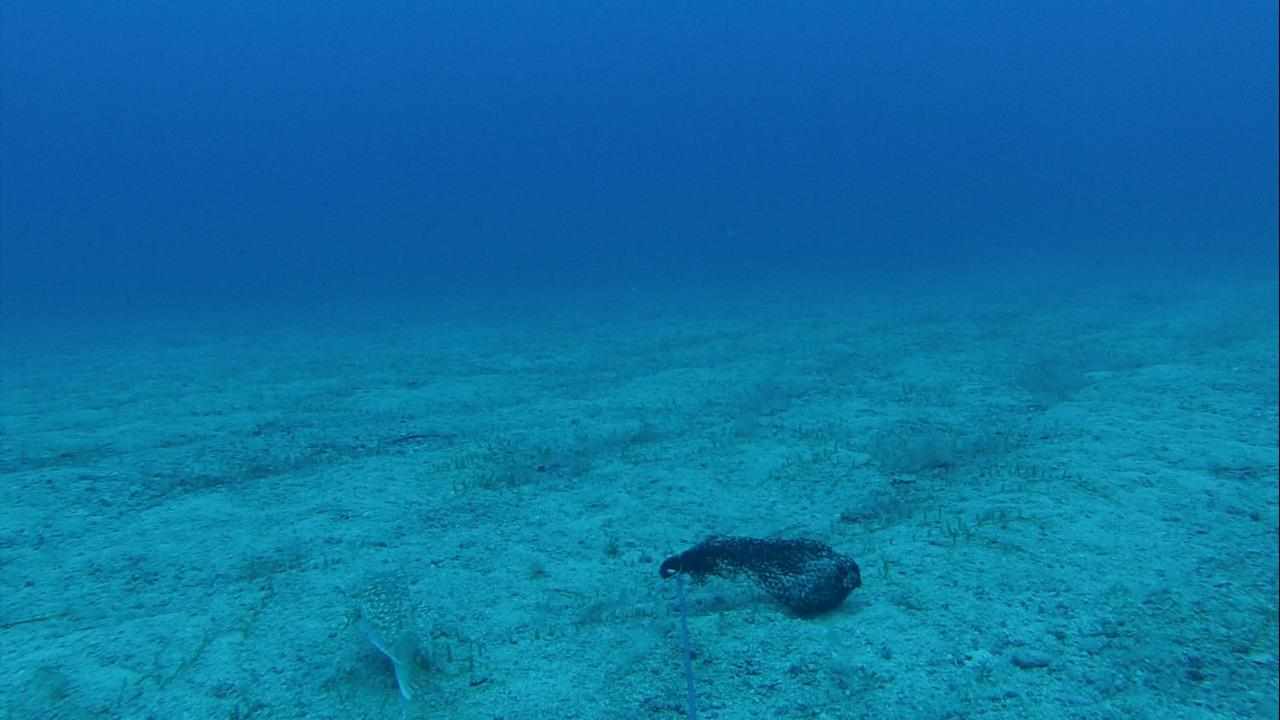dactylopterus: (336, 560, 455, 694)
